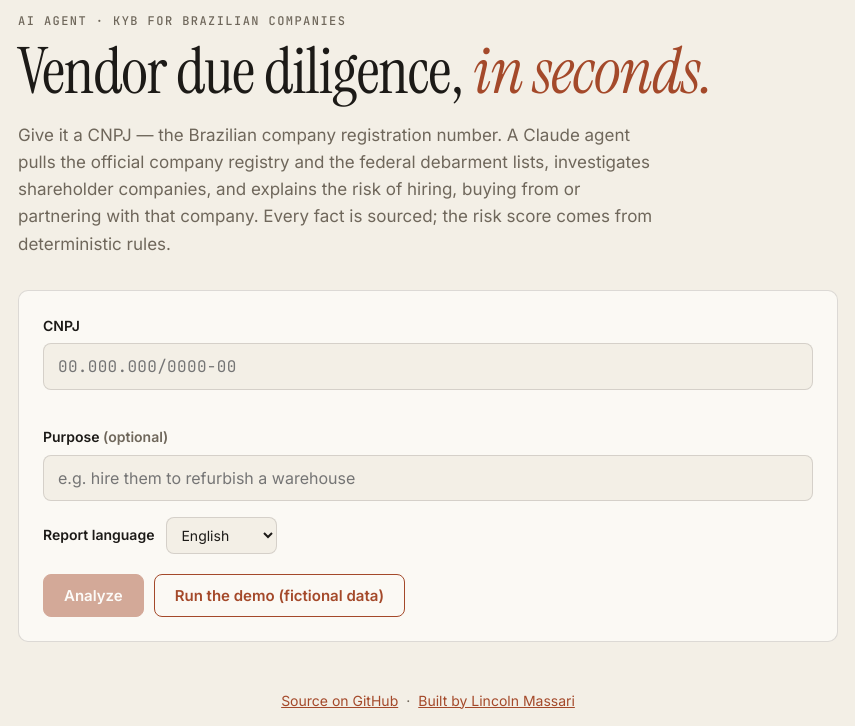
Scenario: App › only enables Analyze for a valid CNPJ
The width and height of the screenshot is (855, 726).
Type "33000167000102" into the field labelled "CNPJ" at (428, 367), box [43,343,813,390]
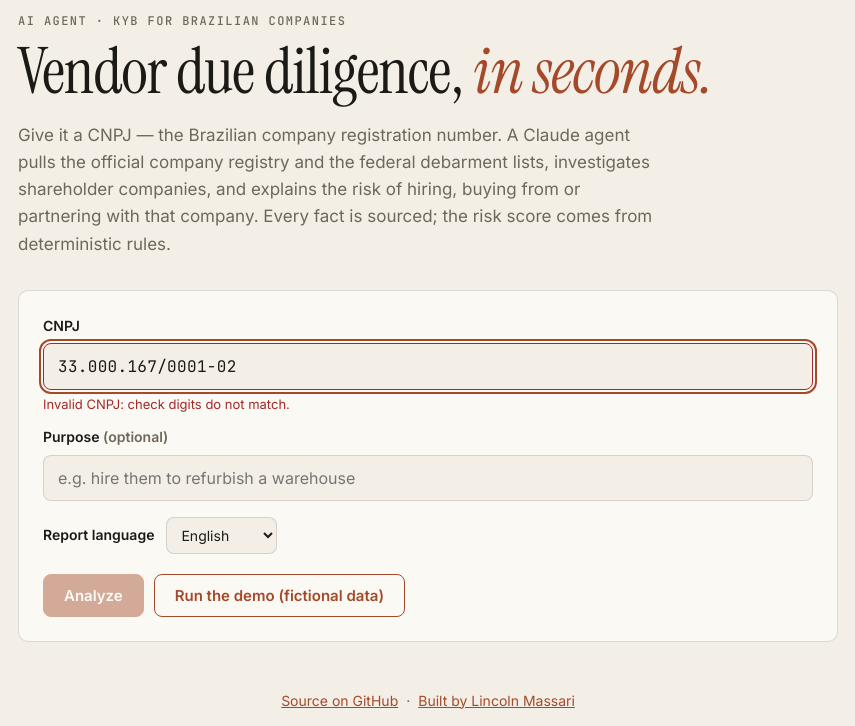
Expected: the button "Analyze" is disabled, [43,574,144,616]
Expected: the text "Invalid CNPJ: check digits do not match." is shown, [43,396,290,412]
Replace the text in the field labelled "CNPJ" with "33000167000101" at (428, 367), box [43,343,813,390]
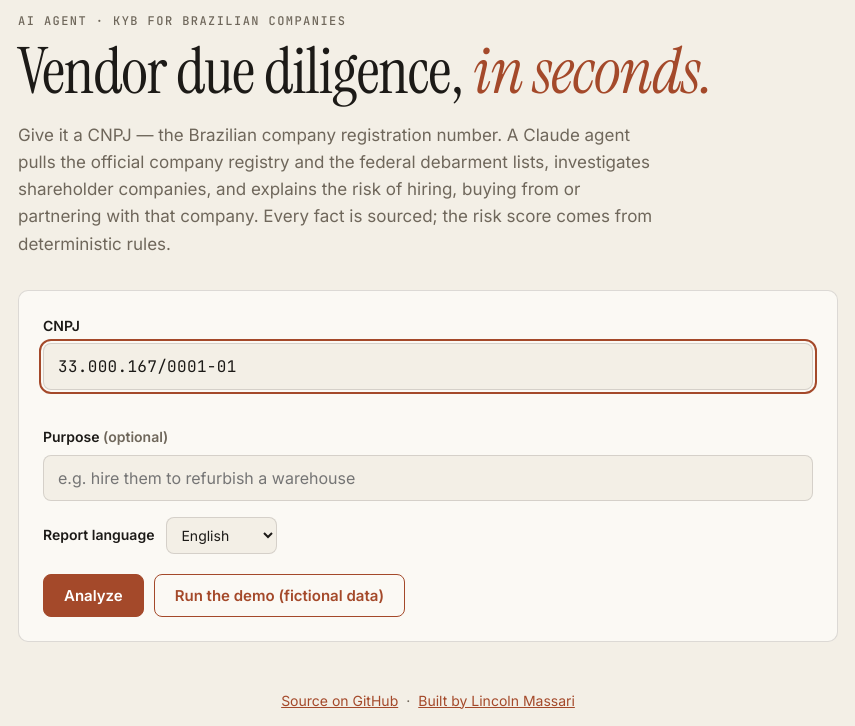
Expected: the field labelled "CNPJ" holds "33.000.167/0001-01", [43,343,813,390]
Expected: the button "Analyze" is enabled, [43,574,144,616]
